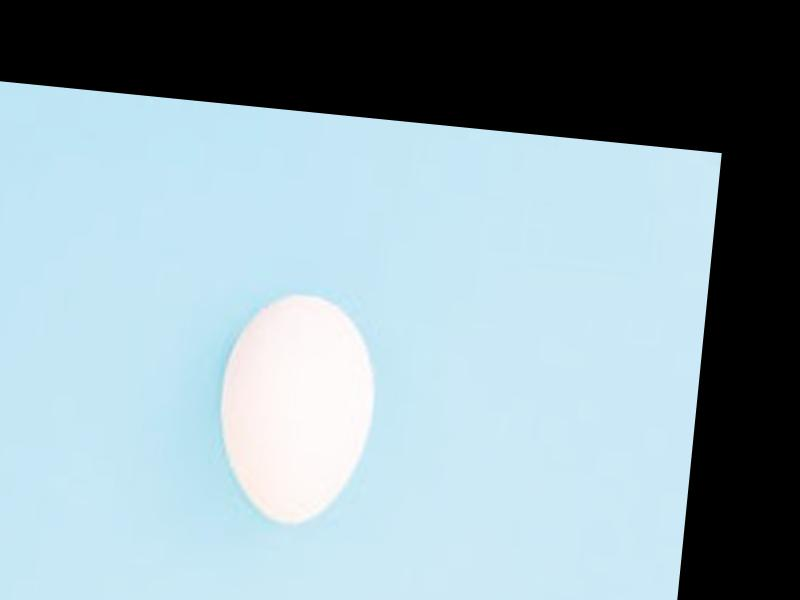Eggs: (207, 287, 381, 535)
